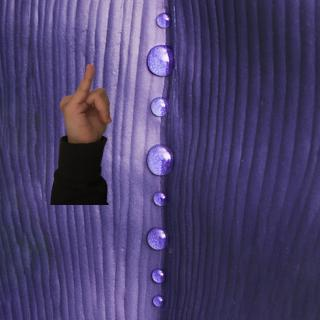HAVE: (52, 58, 118, 148)
